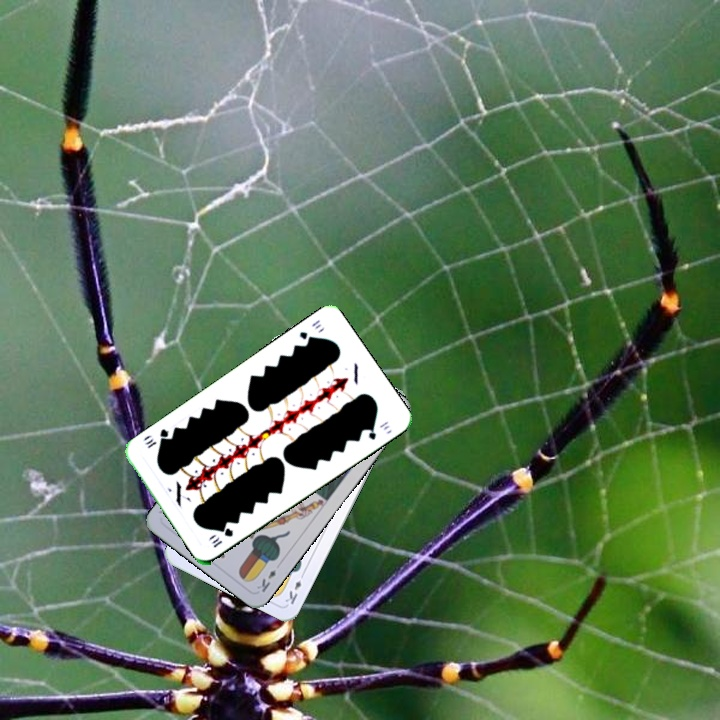EK: (281, 568, 307, 607), (252, 565, 279, 595)
G10: (295, 316, 324, 345), (207, 524, 236, 550)
